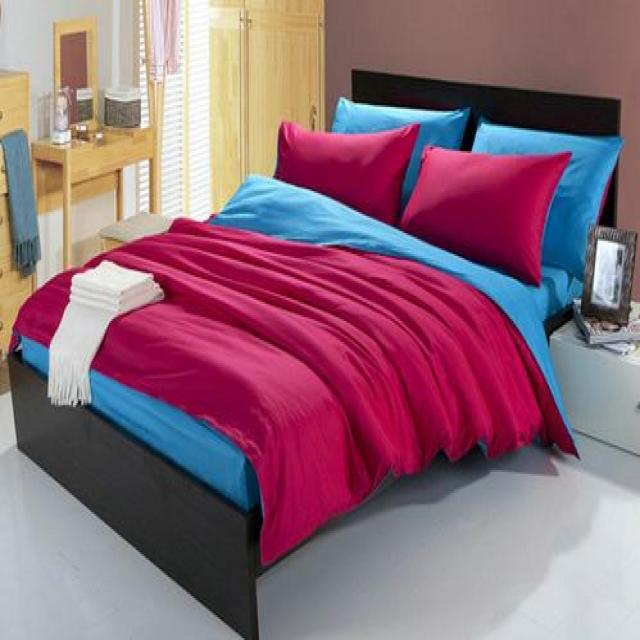bed: (6, 67, 624, 638)
table: (30, 118, 155, 272)
